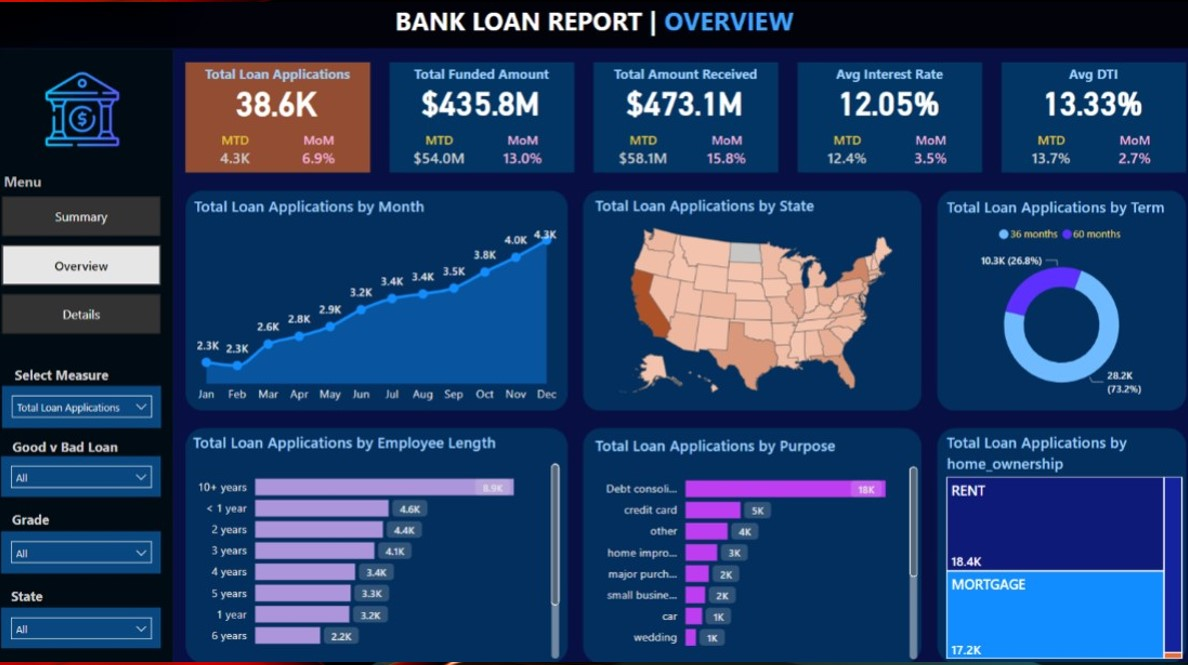

The dashboard page shown, as its layout file describes it:
{"tool":"powerbi","page":{"name":"Overview","canvas":[1280,720],"ordinal":1},"visuals":[{"type":"textbox","box":[179.6,55.1,195.2,117.4],"z":0},{"type":"card","fields":{"Values":["Measures (2).Total Loan Application"]},"box":[179.6,81.4,195.2,32.3],"z":1000},{"type":"shape","box":[0,0,1280,55.1],"z":2000},{"type":"shape","box":[0,4.8,179.6,715],"z":3000},{"type":"textbox","box":[400,4.8,462.3,46.7],"z":4000},{"type":"textbox","box":[179,61.1,196.1,52.6],"z":5000},{"type":"card","title":"MTD","fields":{"Values":["Measures (2).MTD LOAN APPLICATIONS"]},"box":[191.6,118.6,52.7,43.1],"z":6000},{"type":"textbox","box":[287,113.7,66.8,59.7],"z":7000},{"type":"textbox","box":[383.7,55.4,194.7,115.1],"z":8000},{"type":"textbox","box":[383.7,61.1,200.4,31.3],"z":9000},{"type":"textbox","box":[501.6,113.7,62.5,61.1],"z":10000},{"type":"card","title":"MTD","fields":{"Values":["Measures (2).MTD"]},"box":[383.7,119.4,68.2,49.7],"z":11000},{"type":"card","fields":{"Values":["Measures (2).Total Funded Amount"]},"box":[413.5,66.8,136.4,61.1],"z":12000},{"type":"textbox","box":[584,55.4,230.2,113.7],"z":13000},{"type":"textbox","box":[724.7,113.7,72.5,62.5],"z":14000},{"type":"card","fields":{"Values":["Measures (2).TOTAL AMOUNT RECIEVED"]},"box":[639.4,81,127.9,44],"z":15000},{"type":"textbox","box":[578.3,61.1,235.9,36.9],"z":16000},{"type":"card","title":"MTD","fields":{"Values":["Measures (2).MTD TOTAL AMOUNT RECIEVED"]},"box":[584,117.9,83.8,51.2],"z":17000},{"type":"textbox","box":[824.2,55.4,235.9,115.1],"z":18000},{"type":"textbox","box":[1070,55.4,210.3,113.7],"z":19000},{"type":"textbox","box":[824.2,62.5,235.9,35.5],"z":20000},{"type":"card","fields":{"Values":["Measures (2).MTD AVERAGE INTREST RATE"]},"box":[824.2,82.4,235.9,32.7],"z":21000},{"type":"textbox","box":[964.8,112.3,79.6,56.8],"z":22000},{"type":"card","title":"MTD","fields":{"Values":["Measures (2).MTD AVERAGE INTREST RATE"]},"box":[852.6,115.1,55.4,49.7],"z":23000},{"type":"textbox","box":[1070,61.1,210.3,31.3],"z":24000},{"type":"textbox","box":[1189.3,108,79.6,56.8],"z":25000},{"type":"card","fields":{"Values":["Measures (2).AVERAGE DTI"]},"box":[1070,81,198.9,46.9],"z":26000},{"type":"card","title":"MTD","fields":{"Values":["Measures (2).MTD AVG DTI"]},"box":[1070,115.1,95.2,54],"z":27000},{"type":"shape","box":[191.7,187.4,358.9,260.9],"z":28000},{"type":"shape","box":[563.6,187.4,343.1,260.9],"z":29000},{"type":"shape","box":[191.7,459.8,358.9,246.5],"z":30000},{"type":"slicer","fields":{"Values":["financial_loan.address_state"]},"box":[1.2,447.9,178.4,45.5],"z":41000},{"type":"slicer","fields":{"Values":["financial_loan.grade"]},"box":[0,548.5,178.4,45.5],"z":42000},{"type":"slicer","fields":{"Values":["financial_loan.purpose"]},"box":[0,652.7,178.4,45.5],"z":43000},{"type":"textbox","box":[1.2,419.2,62.3,27.5],"z":44000},{"type":"textbox","box":[1.2,511.4,74.3,27.5],"z":45000},{"type":"textbox","box":[0,615.6,86.2,27.5],"z":46000},{"type":"shape","box":[563.6,461.3,343.1,245],"z":46001},{"type":"shape","box":[921.1,187.4,347.4,260.9],"z":46002},{"type":"shape","box":[921.1,464.1,347.4,242.2],"z":46003},{"type":"areaChart","fields":{"Category":["Date Table.Month"],"Y":["Measures (2).Total Loan Application"]},"box":[191.7,187.4,358.9,260.9],"z":46004},{"type":"slicer","fields":{"Values":["Parameter.Parameter"]},"box":[1.2,350.9,177.2,55.1],"z":46005},{"type":"textbox","box":[1.2,317.4,166.5,27.5],"z":46006},{"type":"shapeMap","title":"Total Loan Application by State","fields":{"Category":["financial_loan.address_state"],"Value":["Measures (2).Total Loan Application"]},"box":[563.6,187.4,343.1,259.5],"z":46007},{"type":"donutChart","fields":{"Category":["financial_loan.term"],"Y":["Measures (2).Total Loan Application"]},"box":[921.1,187.4,347.4,259.5],"z":46008},{"type":"barChart","fields":{"Y":["Measures (2).Total Funded Amount"],"Category":["financial_loan.emp_length"]},"box":[191.7,461.3,358.9,245],"z":46009},{"type":"clusteredBarChart","fields":{"Y":["Measures (2).Total Loan Application"],"Category":["financial_loan.purpose"]},"box":[563.6,464.1,343.1,233.5],"z":46010},{"type":"treemap","fields":{"Values":["Measures (2).Total Loan Application"],"Group":["financial_loan.home_ownership"]},"box":[921,464.7,347.3,241.9],"z":46011},{"type":"image","box":[12,4.8,144.9,140.1],"z":46012},{"type":"pageNavigator","box":[1.2,144.9,177.2,132.9],"z":46013}]}

Visuals, with their boxes in screenshot pixels (x1, y1, x2, y2), scaled from the page's 1280x720 canvas onto the 1188x665 screenshot:
textbox: [167, 51, 348, 159]
card - Measures (2).Total Loan Application: [167, 75, 348, 105]
shape: [0, 0, 1187, 51]
shape: [0, 4, 167, 664]
textbox: [371, 4, 800, 48]
textbox: [166, 56, 348, 105]
"MTD" card: [178, 110, 227, 149]
textbox: [266, 105, 328, 160]
textbox: [356, 51, 537, 157]
textbox: [356, 56, 542, 85]
textbox: [466, 105, 524, 161]
"MTD" card: [356, 110, 419, 156]
card - Measures (2).Total Funded Amount: [384, 62, 510, 118]
textbox: [542, 51, 756, 156]
textbox: [673, 105, 740, 163]
card - Measures (2).TOTAL AMOUNT RECIEVED: [593, 75, 712, 115]
textbox: [537, 56, 756, 91]
"MTD" card: [542, 109, 620, 156]
textbox: [765, 51, 984, 157]
textbox: [993, 51, 1187, 156]
textbox: [765, 58, 984, 91]
card - Measures (2).MTD AVERAGE INTREST RATE: [765, 76, 984, 106]
textbox: [895, 104, 969, 156]
"MTD" card: [791, 106, 843, 152]
textbox: [993, 56, 1187, 85]
textbox: [1104, 100, 1178, 152]
card - Measures (2).AVERAGE DTI: [993, 75, 1178, 118]
"MTD" card: [993, 106, 1081, 156]
shape: [178, 173, 511, 414]
shape: [523, 173, 842, 414]
shape: [178, 425, 511, 652]
slicer - financial_loan.address_state: [1, 414, 167, 456]
slicer - financial_loan.grade: [0, 507, 166, 549]
slicer - financial_loan.purpose: [0, 603, 166, 645]
textbox: [1, 387, 59, 413]
textbox: [1, 472, 70, 498]
textbox: [0, 569, 80, 594]
shape: [523, 426, 842, 652]
shape: [855, 173, 1177, 414]
shape: [855, 429, 1177, 652]
areaChart - Date Table.Month x Measures (2).Total Loan Application: [178, 173, 511, 414]
slicer - Parameter.Parameter: [1, 324, 166, 375]
textbox: [1, 293, 156, 319]
"Total Loan Application by State" shapeMap: [523, 173, 842, 413]
donutChart - financial_loan.term x Measures (2).Total Loan Application: [855, 173, 1177, 413]
barChart - Measures (2).Total Funded Amount x financial_loan.emp_length: [178, 426, 511, 652]
clusteredBarChart - Measures (2).Total Loan Application x financial_loan.purpose: [523, 429, 842, 644]
treemap - Measures (2).Total Loan Application x financial_loan.home_ownership: [855, 429, 1177, 653]
image: [11, 4, 146, 134]
pageNavigator: [1, 134, 166, 257]
